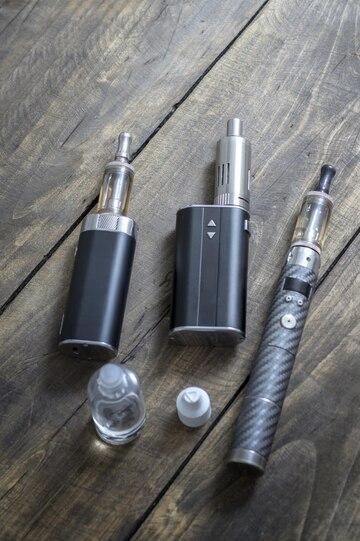Vape: (226, 165, 335, 476), (169, 118, 250, 347), (57, 132, 136, 361)
